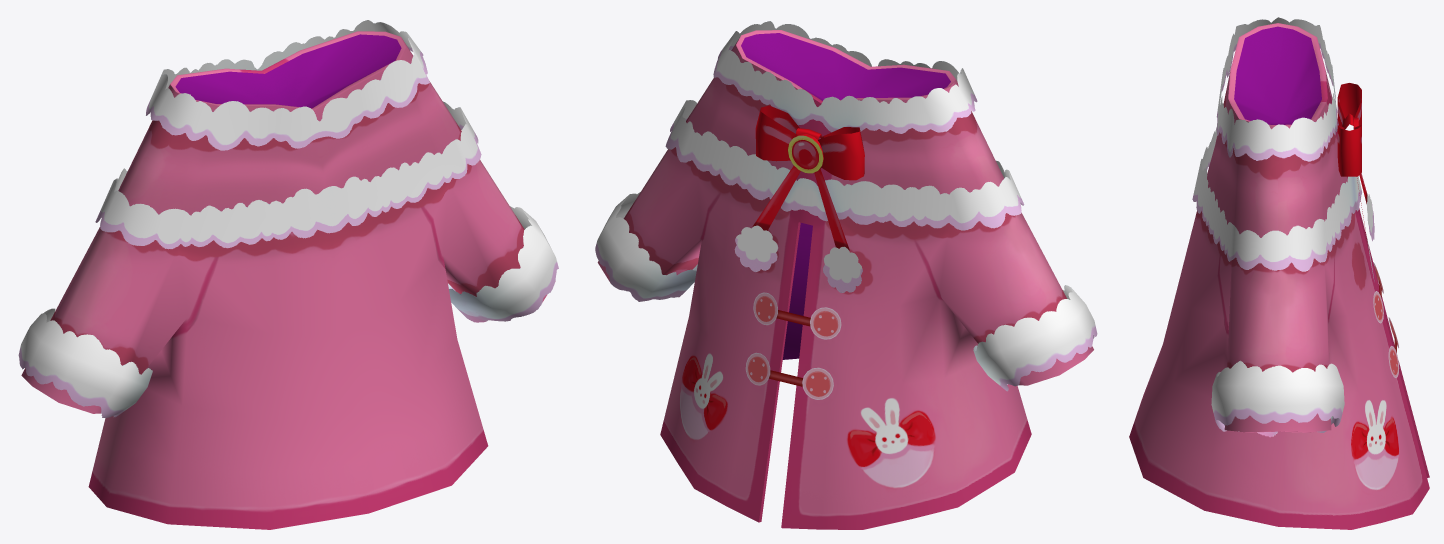
File: Sweater.fbx
3 renders of one model, left to right at view 1: azimuth 30°, elevation 25°; view 2: azimuth 150°, elevation 25°; view 3: azimuth 270°, elevation 25°, orthographic. The views are drawn at different scales.
Visible parts, largest first — view 1: 064; view 2: 064; view 3: 064.
Boxes of the visible parts, x1,y1,x2,y2 form: 064: (18, 20, 558, 529); 064: (595, 21, 1097, 529); 064: (1129, 17, 1429, 529).
Bounding box in the file's own units: 61.78 × 50.72 × 33.04.
Materials: 1 (1 with a texture image).
